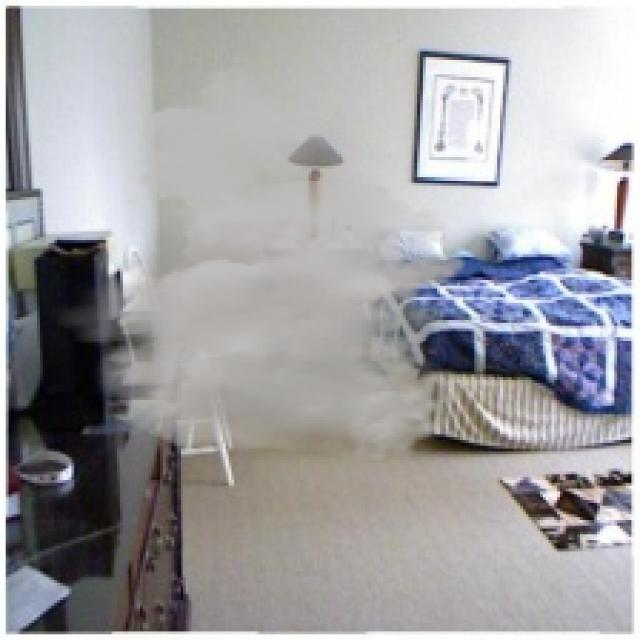smoke: (49, 54, 468, 463)
